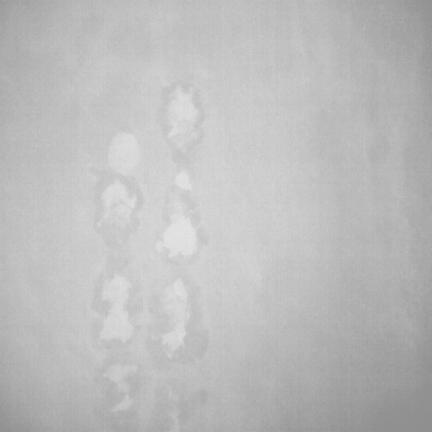flukeprints: (95, 273, 134, 345), (161, 278, 190, 358), (167, 87, 199, 150), (101, 180, 136, 229), (161, 213, 197, 259), (103, 362, 136, 412), (108, 129, 141, 174), (175, 169, 191, 190), (169, 408, 179, 431)
